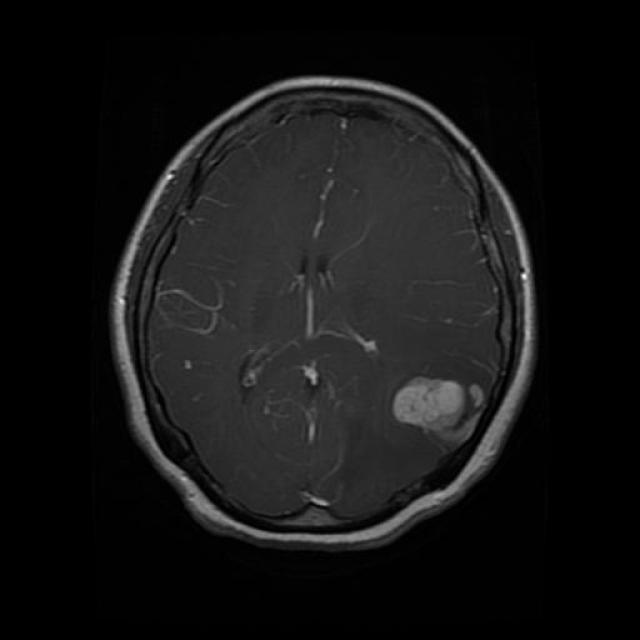Brain-Tumor: (383, 360, 495, 450)
